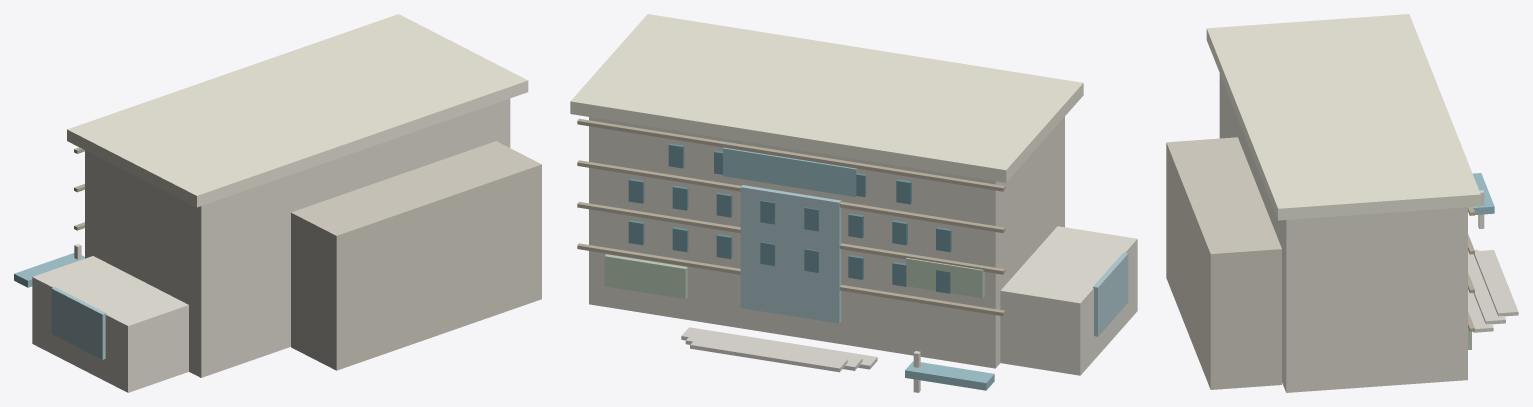
The model's file is gyeongsam-overview.glb.
3 views of the same model, side by side, from view 1: azimuth 30°, elevation 25°; view 2: azimuth 150°, elevation 25°; view 3: azimuth 270°, elevation 25° (orthographic). The views are drawn at different scales.
Bounding box in the file's own units: 26.84 × 10.85 × 18.14.
